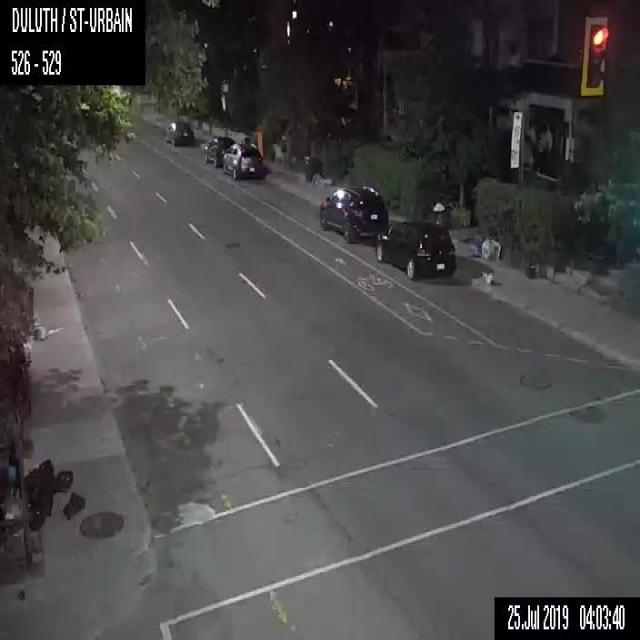construction: (257, 130, 264, 154)
vehicle: (377, 219, 457, 280), (319, 185, 391, 243), (222, 143, 264, 180), (205, 136, 238, 168), (164, 118, 193, 146)
